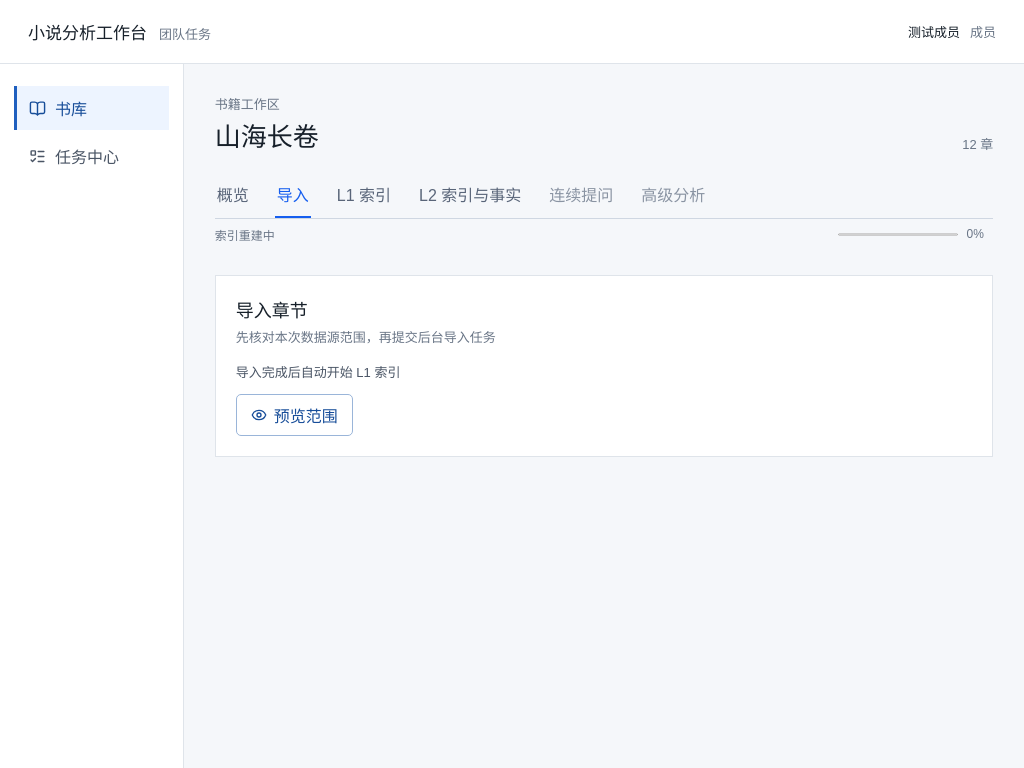
it: book workspace › creates an import job only after a successful preview and explicit confirmation
Expected: the button "确认执行" is not shown
Click the button "预览范围" at [294, 415], box 236,394 -> 353,436
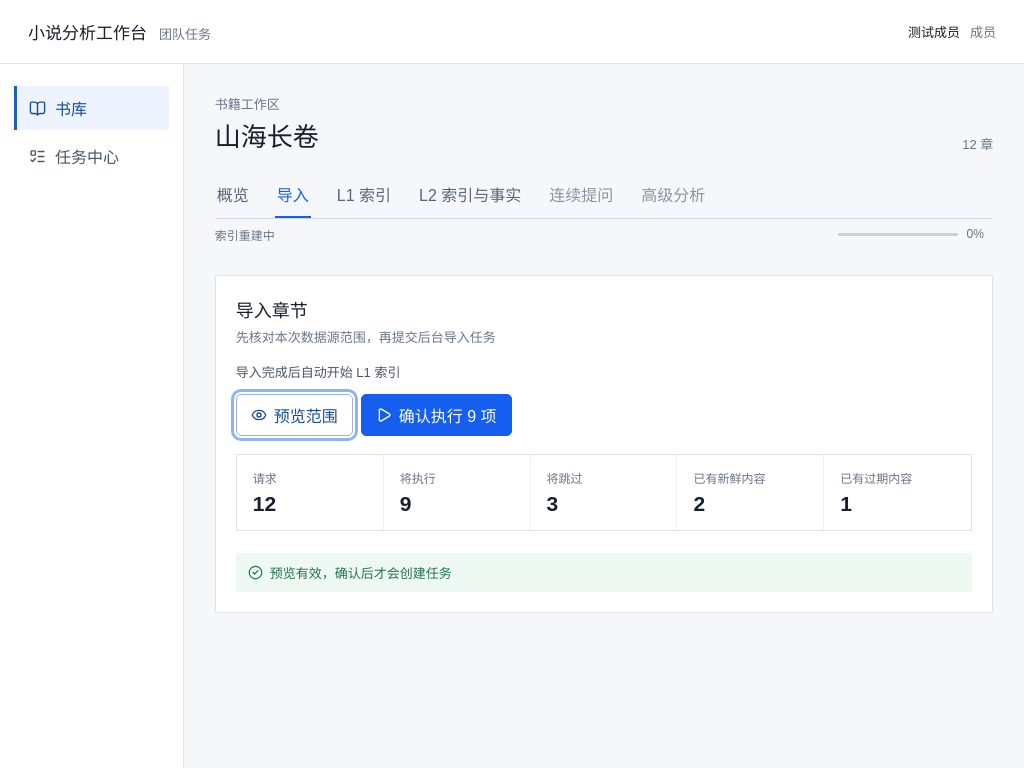
Expected: the text "12" is shown, 253,492 -> 276,515
Expected: the text "3" is shown, 546,492 -> 558,515
Expected: the text "2" is shown, 694,492 -> 705,515
Click the button "确认执行 9 项" at [436, 415], box 361,394 -> 512,436
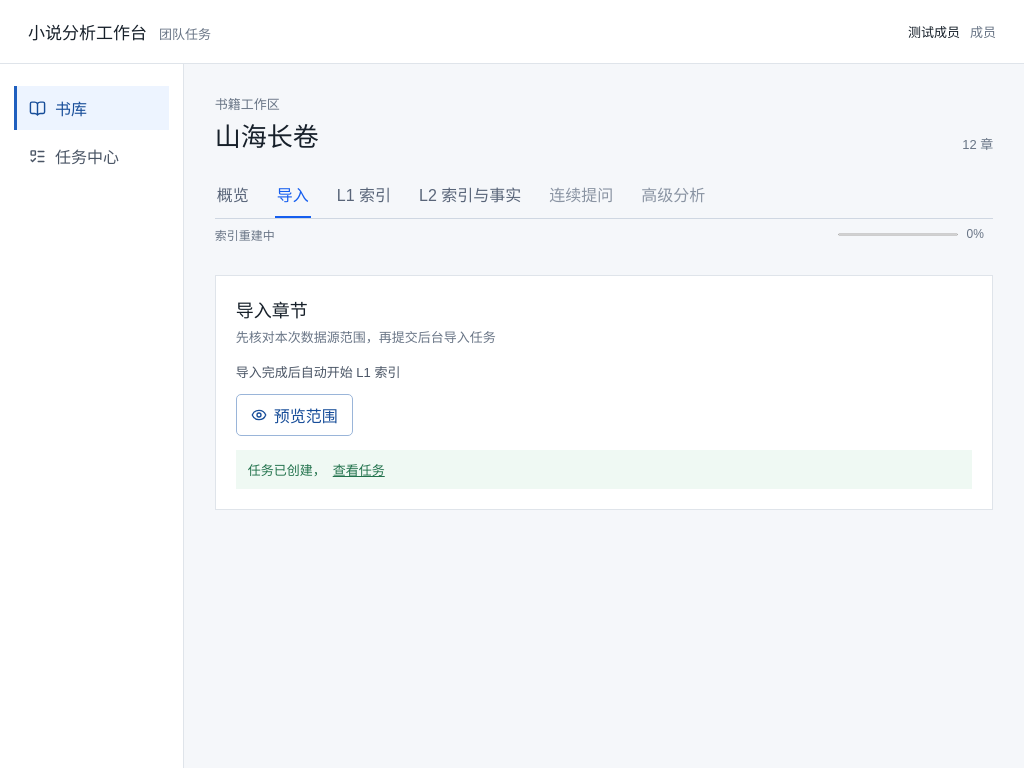
Expected: the text "任务已创建，" is shown, 248,463 -> 326,478
